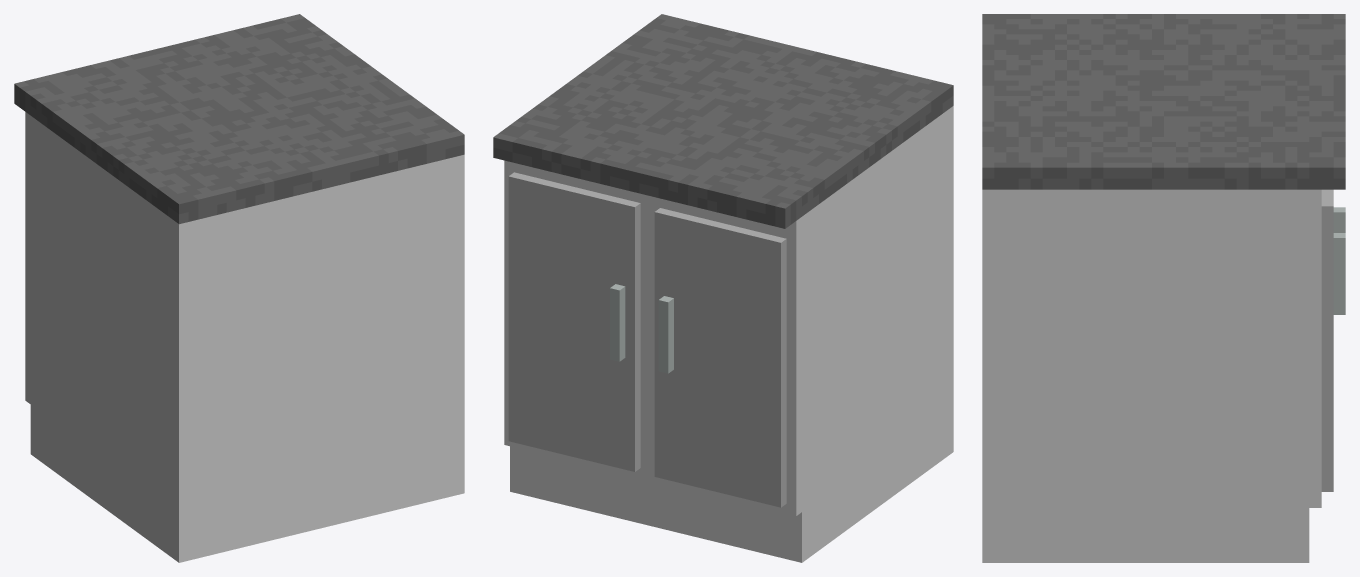
File: countertop_02.glb
3 views of the same model, side by side, from view 1: azimuth 30°, elevation 25°; view 2: azimuth 150°, elevation 25°; view 3: azimuth 270°, elevation 25° (orthographic). The views are drawn at different scales.
Visible parts, largest first — view 1: Untitled; view 2: Untitled; view 3: Untitled.
Boxes of the visible parts, box(x1,y1,x2,y2) form: Untitled: box(14, 14, 464, 562); Untitled: box(493, 14, 953, 562); Untitled: box(982, 14, 1345, 562).
Size of the model in its own units: 0.9 by 1.08 by 0.9.
1 material, 1 textured.
